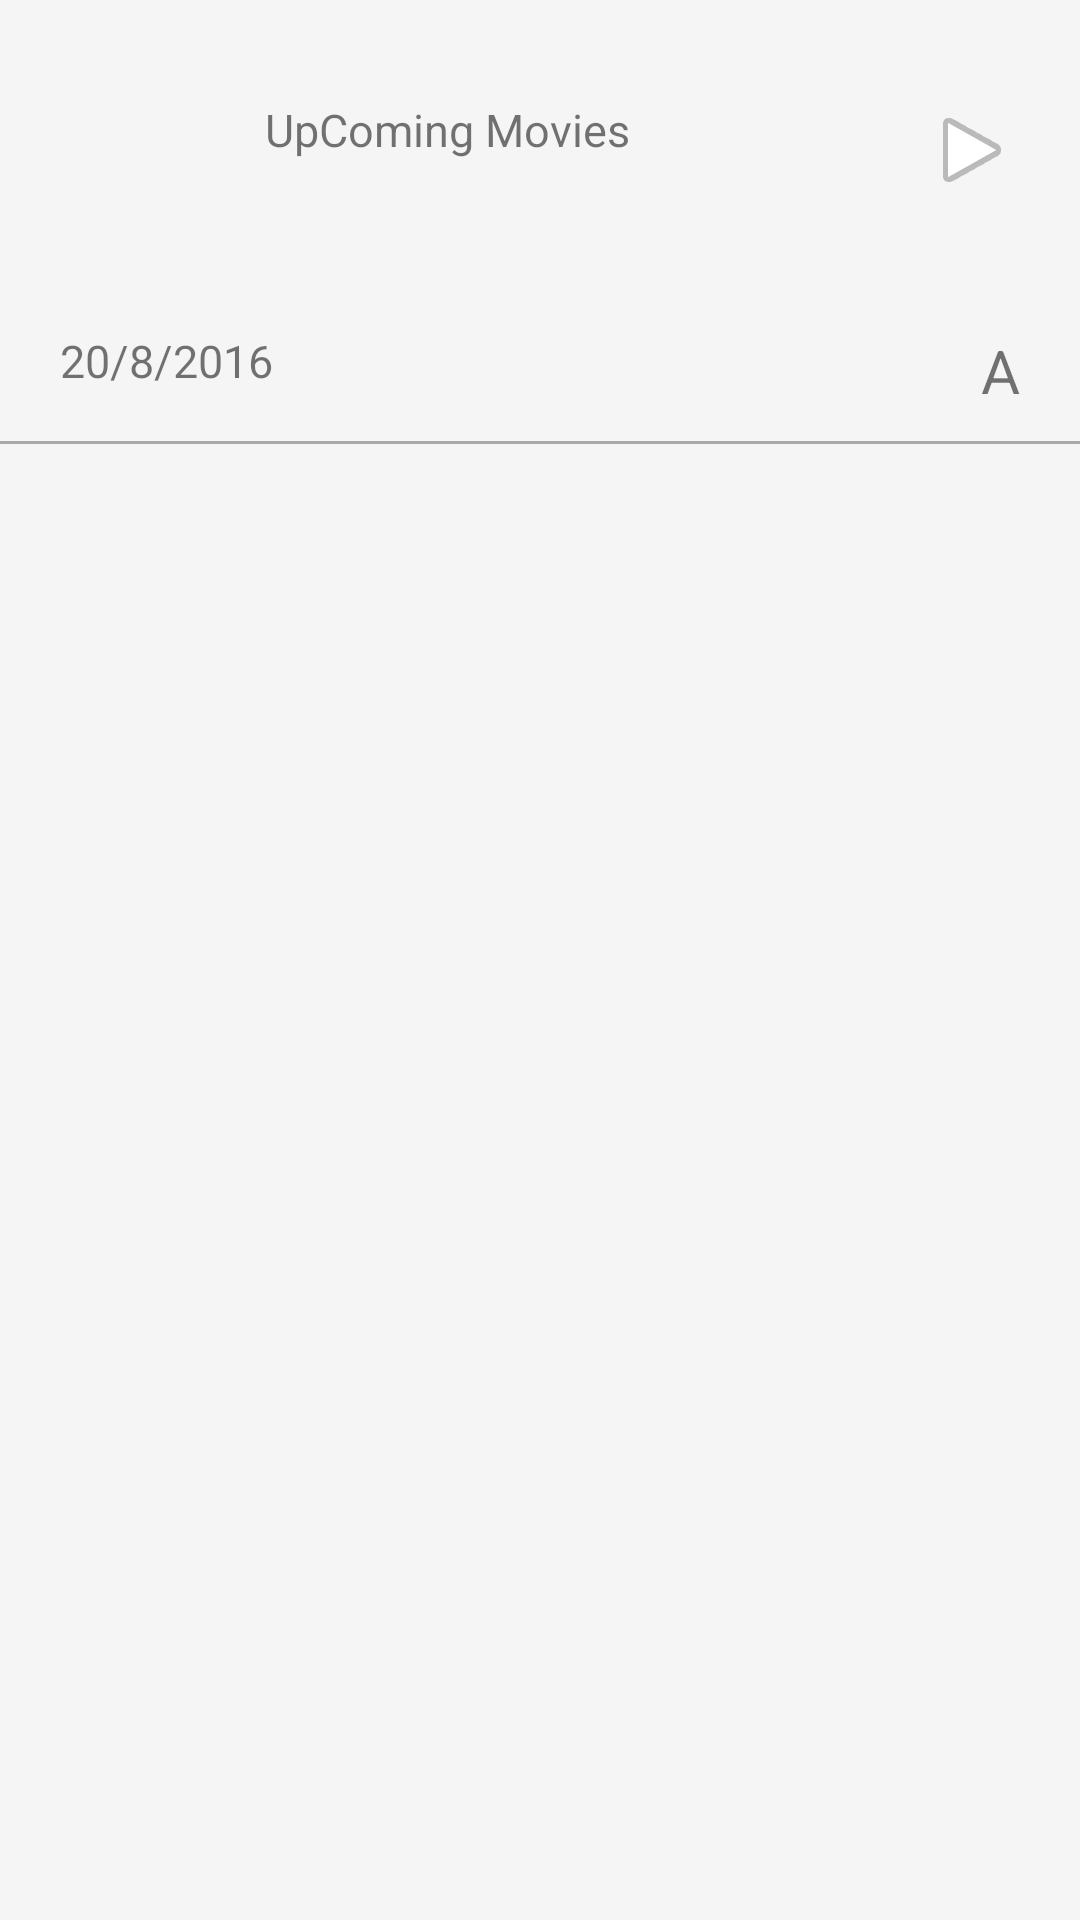

Screen size 1080 × 1920. Icon name, then its center in pixels as point (x, y):
play: point (972, 150)
